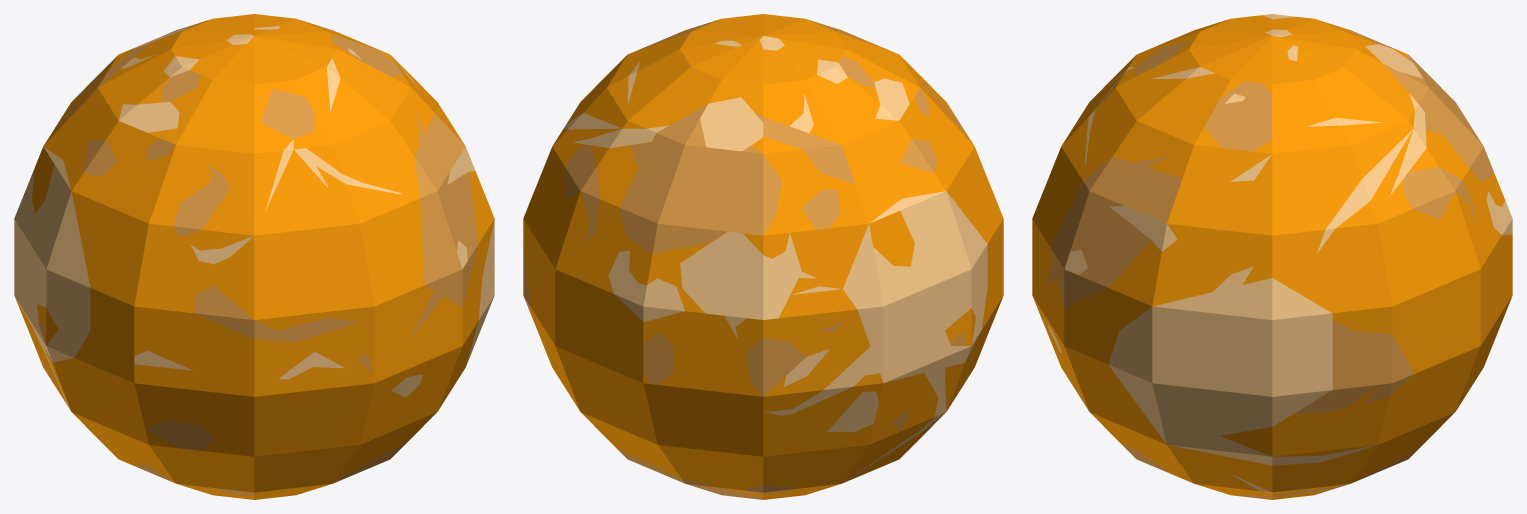
The model's file is Venus.glb.
3 renders of one model, left to right at view 1: azimuth 30°, elevation 25°; view 2: azimuth 150°, elevation 25°; view 3: azimuth 270°, elevation 25°, orthographic.
Parts seen in each view (by area): view 1: group646701568; view 2: group646701568; view 3: group646701568.
Part boxes in pixels (left/top/right/bottom): group646701568: left=14, top=14, right=494, bottom=499; group646701568: left=523, top=14, right=1003, bottom=499; group646701568: left=1032, top=14, right=1512, bottom=499.
Size of the model in its own units: 1.37 by 1.39 by 1.37.
